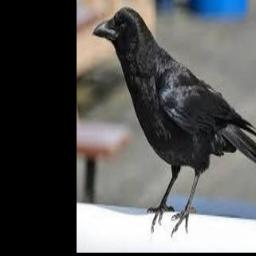Crow: (92, 5, 256, 232)
